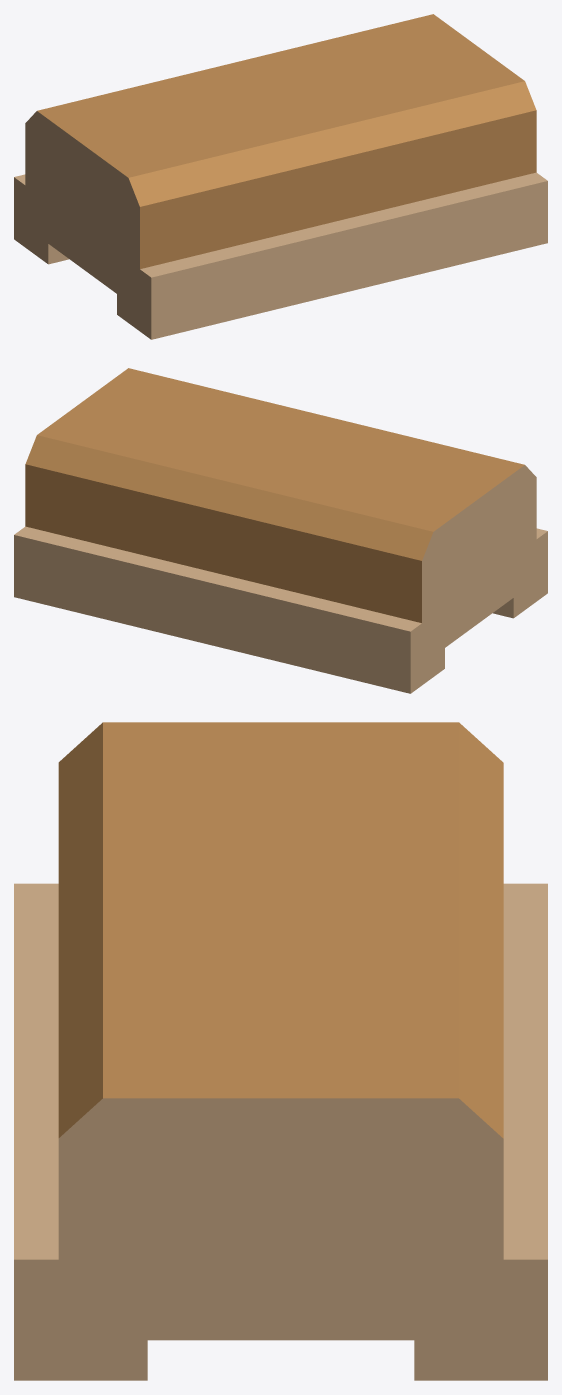
The model's file is Pillar_Large_Beam_Top.fbx.
3 views of the same model, one above another, from view 1: azimuth 30°, elevation 25°; view 2: azimuth 150°, elevation 25°; view 3: azimuth 270°, elevation 25° (orthographic). The views are drawn at different scales.
Visible parts, largest first — view 1: Sandstone_6.Sandstone_6, Sandstone_4.Sandstone_4.object1; view 2: Sandstone_6.Sandstone_6, Sandstone_4.Sandstone_4.object1; view 3: Sandstone_6.Sandstone_6, Sandstone_4.Sandstone_4.object1.
Boxes of the visible parts, x1,y1,x2,y2 form: Sandstone_6.Sandstone_6: [37, 14, 536, 268]; Sandstone_4.Sandstone_4.object1: [14, 111, 547, 339]; Sandstone_6.Sandstone_6: [25, 368, 524, 622]; Sandstone_4.Sandstone_4.object1: [14, 465, 547, 693]; Sandstone_6.Sandstone_6: [58, 722, 503, 1138]; Sandstone_4.Sandstone_4.object1: [14, 883, 547, 1380].
Size of the model in its own units: 1 by 0.35 by 0.6.
